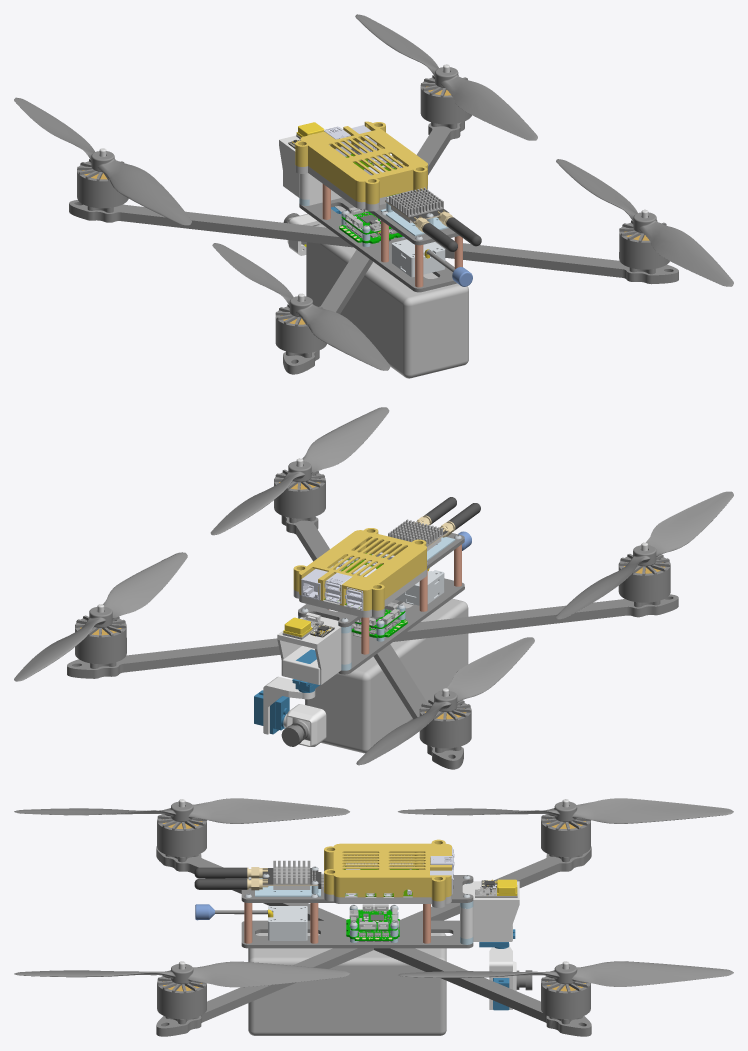
Rendered from assembly.glb.
The picture shows the model from 3 angles, top to bottom: view 1: azimuth 30°, elevation 25°; view 2: azimuth 150°, elevation 25°; view 3: azimuth 270°, elevation 25°; orthographic projection. The views are drawn at different scales.
Parts seen in each view (by area): view 1: Open CASCADE STEP translator 7.5 1.4.1 (3):1__Body1_16; view 2: Open CASCADE STEP translator 7.5 1.4.1 (3):1__Body1_16; view 3: Open CASCADE STEP translator 7.5 1.4.1 (3):1__Body1_16.
Boxes of the visible parts, box(x1,y1,x2,y2) form: Open CASCADE STEP translator 7.5 1.4.1 (3):1__Body1_16: box(14, 14, 733, 378); Open CASCADE STEP translator 7.5 1.4.1 (3):1__Body1_16: box(14, 407, 733, 769); Open CASCADE STEP translator 7.5 1.4.1 (3):1__Body1_16: box(14, 798, 733, 1036).
Size of the model in its own units: 0.3288 by 0.1358 by 0.5439.
Materials: 1 (1 with a texture image).
